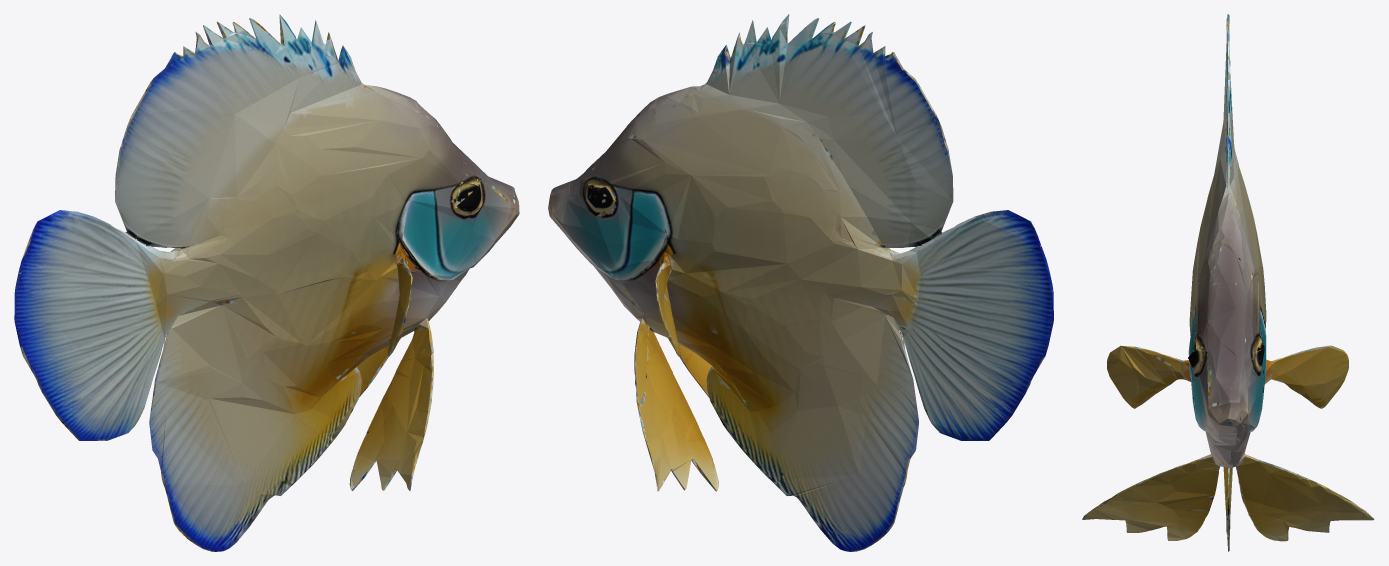
File: fish_0126_smpl23_resized.glb
3 renders of one model, left to right at view 1: azimuth 30°, elevation 25°; view 2: azimuth 150°, elevation 25°; view 3: azimuth 270°, elevation 25°, orthographic.
Visible parts, largest first — view 1: world; view 2: world; view 3: world.
Boxes of the visible parts, x1,y1,x2,y2 form: world: [14, 14, 519, 551]; world: [548, 14, 1053, 551]; world: [1082, 14, 1374, 551].
Bounding box in the file's own units: 1.98 × 1.99 × 1.
Materials: 1 (1 with a texture image).
